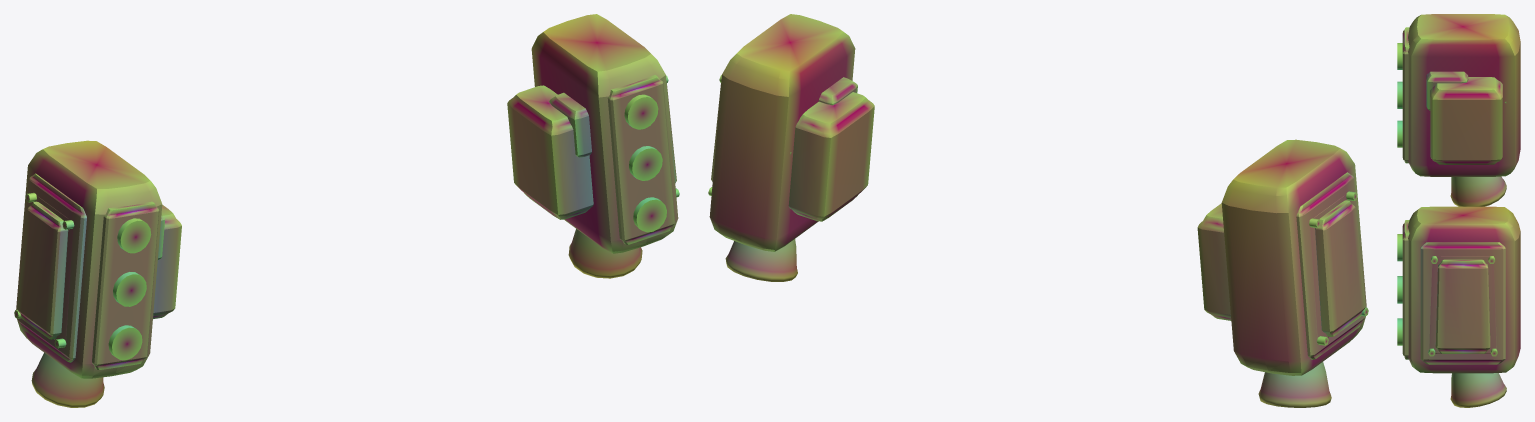
The model's file is llm_gen_leg_thrusters_048_dafd86.glb.
The picture shows the model from 3 angles, left to right: view 1: azimuth 30°, elevation 25°; view 2: azimuth 150°, elevation 25°; view 3: azimuth 270°, elevation 25°; orthographic projection. The views are drawn at different scales.
Visible parts, largest first — view 1: leg_missile_hull_0_zeon_olive_coat_r, leg_missile_hull_0_zeon_olive_coat_l, adapter_calf_clamp_r, leg_pod_armor_cover_6_adapter_dark_l, adapter_sub_missile_bezel_dark_1_adapter_dark_l, adapter_sub_missile_bezel_dark_1_adapter_dark_r, adapter_sub_side_frame_dark_5_adapter_dark_l, leg_ankle_bell_7_vernier_bell_vernier_l, leg_ankle_bell_7_vernier_bell_vernier_r, adapter_calf_clamp_l, adapter_leg_knee_mount_dark_8_adapter_dark_r, leg_cell_top_2_era_block_l (+5 smaller); view 2: leg_missile_hull_0_zeon_olive_coat_r, leg_missile_hull_0_zeon_olive_coat_l, adapter_calf_clamp_r, leg_pod_armor_cover_6_adapter_dark_l, adapter_sub_side_frame_dark_5_adapter_dark_l, adapter_calf_clamp_l, leg_ankle_bell_7_vernier_bell_vernier_l, leg_ankle_bell_7_vernier_bell_vernier_r, adapter_leg_knee_mount_dark_8_adapter_dark_r; view 3: leg_missile_hull_0_zeon_olive_coat_l, leg_missile_hull_0_zeon_olive_coat_r, leg_pod_armor_cover_6_adapter_dark_r, adapter_calf_clamp_l, adapter_sub_side_frame_dark_5_adapter_dark_r, leg_ankle_bell_7_vernier_bell_vernier_r, leg_ankle_bell_7_vernier_bell_vernier_l, adapter_sub_missile_bezel_dark_1_adapter_dark_r, adapter_sub_missile_bezel_dark_1_adapter_dark_l, adapter_leg_knee_mount_dark_8_adapter_dark_l, leg_cell_top_2_era_block_r, leg_cell_mid_3_era_block_r (+4 smaller).
Boxes of the visible parts, bbox=[...] form: leg_missile_hull_0_zeon_olive_coat_r: bbox=[531, 14, 678, 253]; leg_missile_hull_0_zeon_olive_coat_l: bbox=[16, 140, 162, 378]; adapter_calf_clamp_r: bbox=[507, 85, 593, 219]; leg_pod_armor_cover_6_adapter_dark_l: bbox=[14, 192, 74, 348]; adapter_sub_missile_bezel_dark_1_adapter_dark_l: bbox=[92, 201, 159, 369]; adapter_sub_missile_bezel_dark_1_adapter_dark_r: bbox=[607, 75, 675, 244]; adapter_sub_side_frame_dark_5_adapter_dark_l: bbox=[17, 173, 86, 362]; leg_ankle_bell_7_vernier_bell_vernier_l: bbox=[31, 352, 104, 407]; leg_ankle_bell_7_vernier_bell_vernier_r: bbox=[568, 229, 642, 278]; adapter_calf_clamp_l: bbox=[153, 205, 181, 318]; adapter_leg_knee_mount_dark_8_adapter_dark_r: bbox=[549, 92, 591, 157]; leg_cell_top_2_era_block_l: bbox=[117, 218, 151, 253]; leg_missile_hull_0_zeon_olive_coat_r: bbox=[709, 14, 855, 251]; leg_missile_hull_0_zeon_olive_coat_l: bbox=[1221, 139, 1366, 375]; adapter_calf_clamp_r: bbox=[788, 92, 874, 221]; leg_pod_armor_cover_6_adapter_dark_l: bbox=[1309, 191, 1368, 345]; adapter_sub_side_frame_dark_5_adapter_dark_l: bbox=[1296, 172, 1365, 359]; adapter_calf_clamp_l: bbox=[1197, 203, 1231, 320]; leg_ankle_bell_7_vernier_bell_vernier_l: bbox=[1258, 362, 1331, 407]; leg_ankle_bell_7_vernier_bell_vernier_r: bbox=[725, 239, 797, 281]; adapter_leg_knee_mount_dark_8_adapter_dark_r: bbox=[818, 77, 857, 105]; leg_missile_hull_0_zeon_olive_coat_l: bbox=[1408, 14, 1520, 176]; leg_missile_hull_0_zeon_olive_coat_r: bbox=[1408, 206, 1520, 373]; leg_pod_armor_cover_6_adapter_dark_r: bbox=[1428, 256, 1497, 356]; adapter_calf_clamp_l: bbox=[1430, 77, 1502, 164]; adapter_sub_side_frame_dark_5_adapter_dark_r: bbox=[1420, 242, 1505, 364]; leg_ankle_bell_7_vernier_bell_vernier_r: bbox=[1450, 373, 1506, 407]; leg_ankle_bell_7_vernier_bell_vernier_l: bbox=[1450, 176, 1506, 206]; adapter_sub_missile_bezel_dark_1_adapter_dark_r: bbox=[1402, 220, 1409, 359]; adapter_sub_missile_bezel_dark_1_adapter_dark_l: bbox=[1402, 27, 1409, 163]; adapter_leg_knee_mount_dark_8_adapter_dark_l: bbox=[1426, 71, 1468, 110]; leg_cell_top_2_era_block_r: bbox=[1397, 234, 1402, 261]; leg_cell_mid_3_era_block_r: bbox=[1397, 276, 1402, 303].
Bounding box in the file's own units: 84.69 × 30.45 × 18.63.
